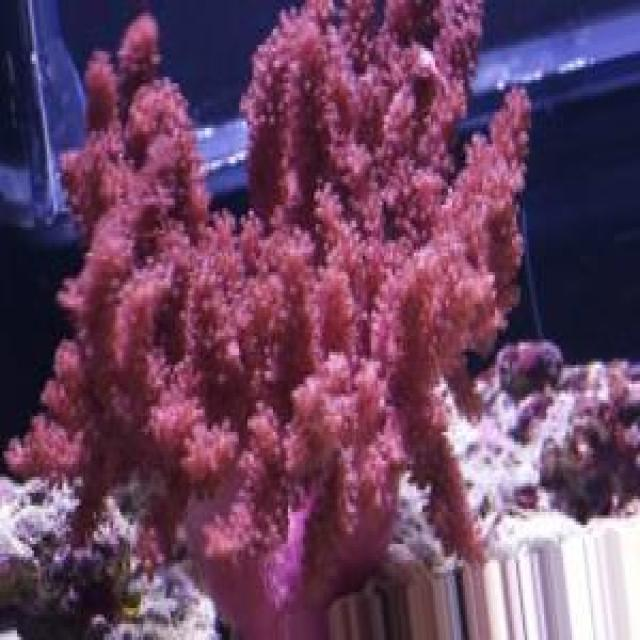healthy coral: (6, 2, 530, 637)
